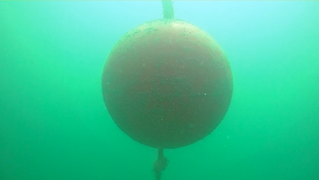bubble: (226, 135, 232, 141), (218, 131, 222, 135), (223, 144, 227, 148)
buoy: (100, 18, 233, 149)
